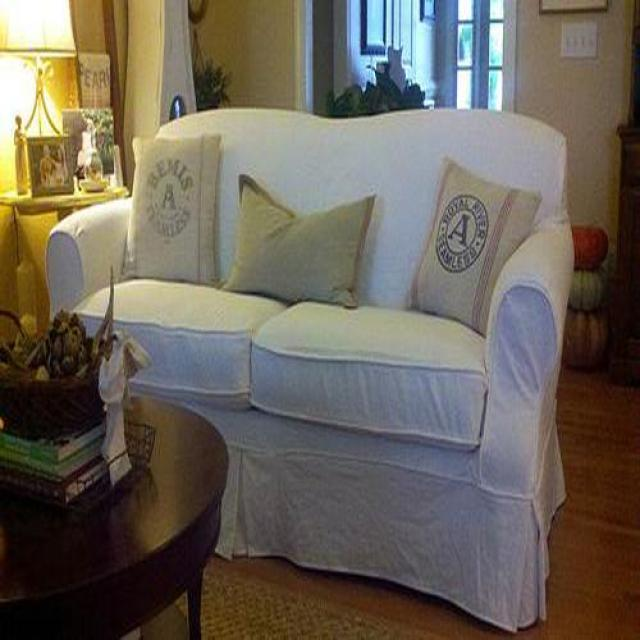sofa: (47, 109, 577, 634)
